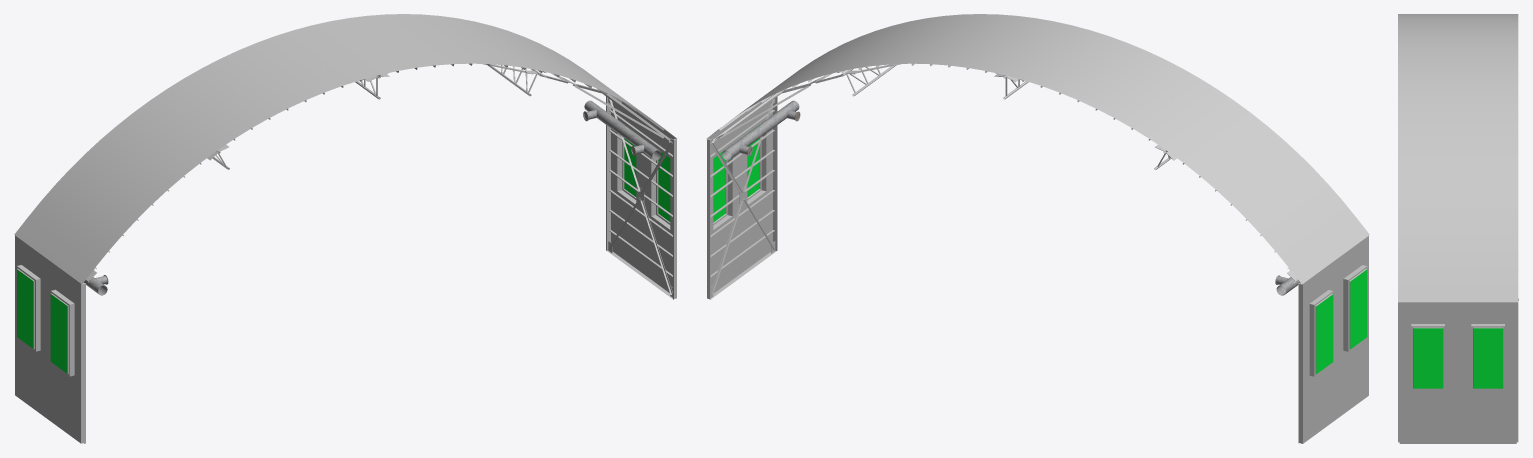
Rendered from mesh_roof_01.FBX.
3 renders of one model, left to right at view 1: azimuth 30°, elevation 25°; view 2: azimuth 150°, elevation 25°; view 3: azimuth 270°, elevation 25°, orthographic. The views are drawn at different scales.
Parts seen in each view (by area): view 1: mesh_roof_01, mesh_roof_windows_01; view 2: mesh_roof_01, mesh_roof_windows_01; view 3: mesh_roof_01, mesh_roof_windows_01.
Boxes of the visible parts, x1=… form: mesh_roof_01: x1=14, y1=14, x2=677, y2=443; mesh_roof_windows_01: x1=17, y1=125, x2=670, y2=373; mesh_roof_01: x1=706, y1=14, x2=1369, y2=443; mesh_roof_windows_01: x1=713, y1=125, x2=1367, y2=373; mesh_roof_01: x1=1398, y1=14, x2=1518, y2=443; mesh_roof_windows_01: x1=1413, y1=328, x2=1503, y2=388.
Bounding box in the file's own units: 51.66 × 24.12 × 10.04.
